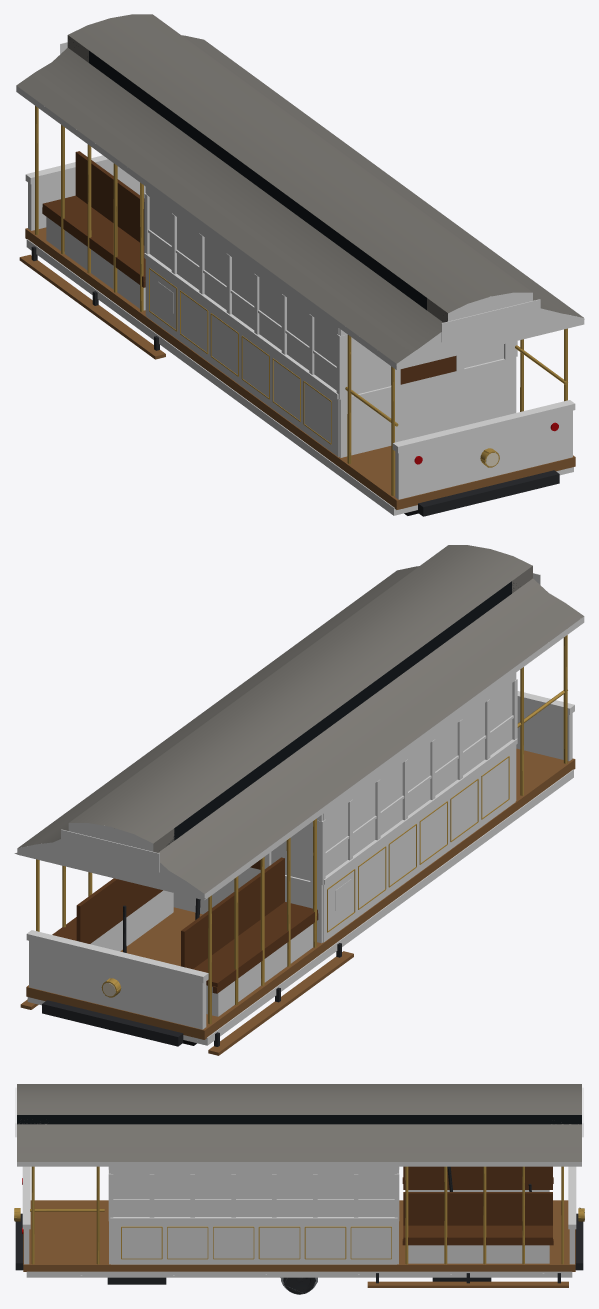
File: cablecar.glb
The picture shows the model from 3 angles, top to bottom: view 1: azimuth 30°, elevation 25°; view 2: azimuth 150°, elevation 25°; view 3: azimuth 270°, elevation 25°; orthographic projection. The views are drawn at different scales.
Visible parts, largest first — view 1: L1_details, L0_paint, L0_details, L0_paint2, L0_glass, L1_paint2, L2_paint2; view 2: L1_details, L0_details, L0_paint, L0_paint2, L0_glass, L1_paint2, L2_paint2; view 3: L1_details, L0_details, L0_paint, L0_paint2, L0_glass, L1_glass, L1_paint2.
Boxes of the visible parts, x1,y1,x2,y2 form: L1_details: (17, 14, 583, 516); L0_paint: (26, 164, 573, 515); L0_details: (16, 35, 567, 516); L0_paint2: (16, 86, 584, 453); L0_glass: (149, 197, 503, 395); L1_paint2: (16, 86, 584, 452); L2_paint2: (398, 296, 584, 364); L1_details: (19, 545, 579, 1046); L0_details: (18, 566, 583, 1055); L0_paint: (27, 702, 573, 1045); L0_paint2: (17, 616, 584, 983); L0_glass: (271, 683, 512, 880); L1_paint2: (19, 618, 584, 978); L2_paint2: (14, 826, 206, 899); L1_details: (14, 1084, 584, 1284); L0_details: (14, 1088, 584, 1287); L0_paint: (24, 1190, 574, 1277); L0_paint2: (17, 1162, 581, 1229); L0_glass: (195, 1174, 394, 1216); L1_glass: (113, 1174, 190, 1216); L1_paint2: (18, 1162, 581, 1228).
Size of the model in its own units: 2.62 by 3.44 by 8.79.
